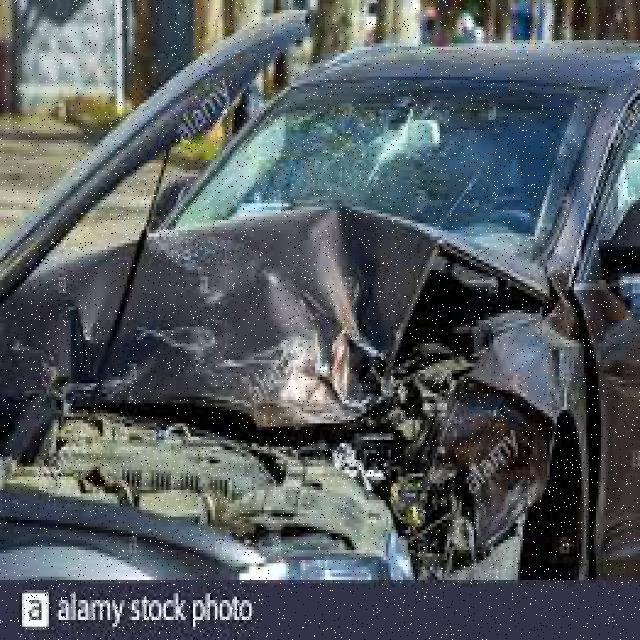Front-Windscreen-Damage: (147, 60, 594, 244)
bonnet-dent: (0, 216, 494, 444)
